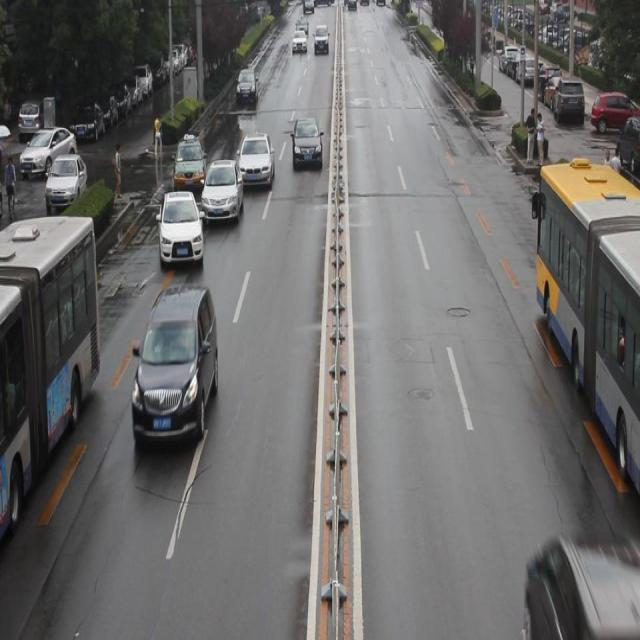car: (132, 294, 218, 454), (524, 539, 640, 632), (156, 192, 203, 270), (199, 156, 244, 223), (173, 135, 208, 198), (239, 132, 274, 190), (290, 118, 321, 168)
van: (530, 172, 640, 500), (1, 218, 101, 535)
